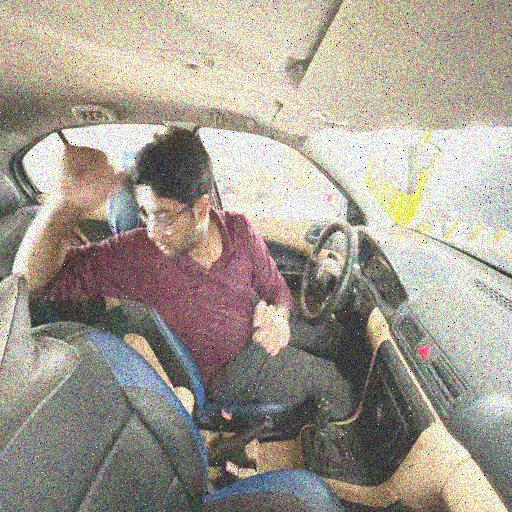Reaching_behind: (9, 128, 297, 391)
